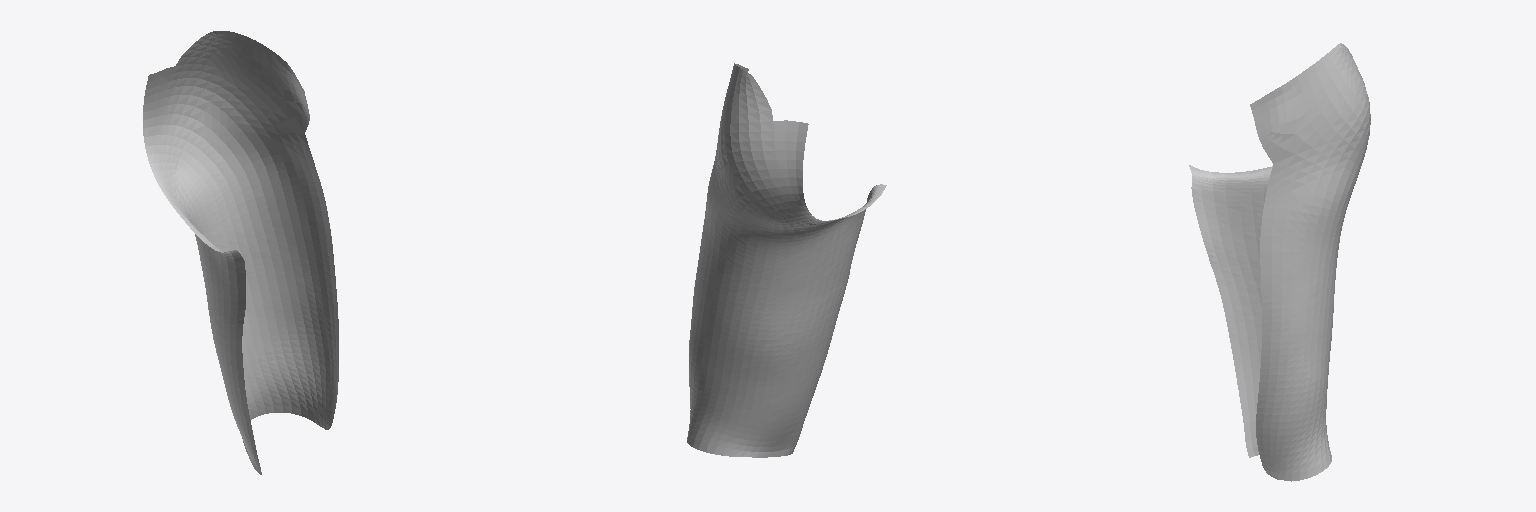
Rendered from left_hamstring.obj.
3 views of the same model, side by side, from view 1: azimuth 30°, elevation 25°; view 2: azimuth 150°, elevation 25°; view 3: azimuth 270°, elevation 25° (orthographic).
Parts seen in each view (by area): view 1: 000_Male_base_1_-_piece_1; view 2: 000_Male_base_1_-_piece_1; view 3: 000_Male_base_1_-_piece_1.
Boxes of the visible parts, x1,y1,x2,y2 form: 000_Male_base_1_-_piece_1: [143, 31, 338, 474]; 000_Male_base_1_-_piece_1: [687, 63, 886, 457]; 000_Male_base_1_-_piece_1: [1189, 43, 1370, 481].
Bounding box in the file's own units: 2.32 × 6.18 × 2.47.